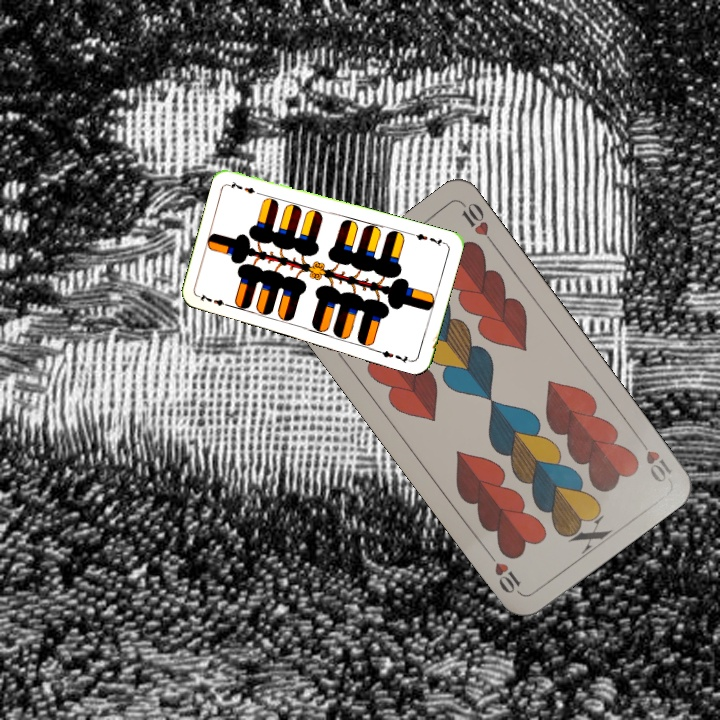E7: (408, 229, 448, 249), (195, 290, 235, 310)
H10: (633, 432, 675, 485)
